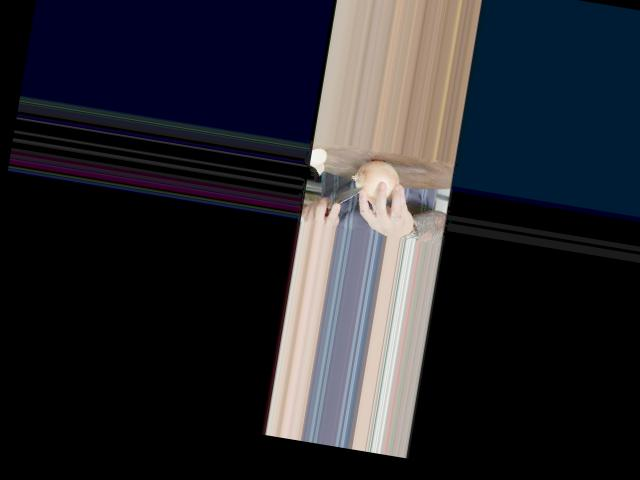onion: (351, 160, 404, 204)
